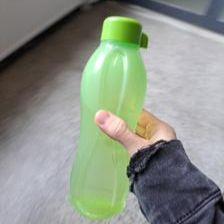bottle: (66, 13, 150, 224)
